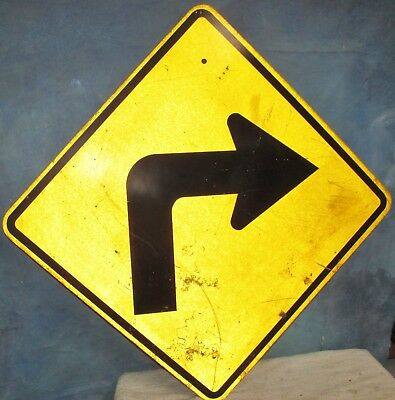right: (2, 3, 391, 400)
